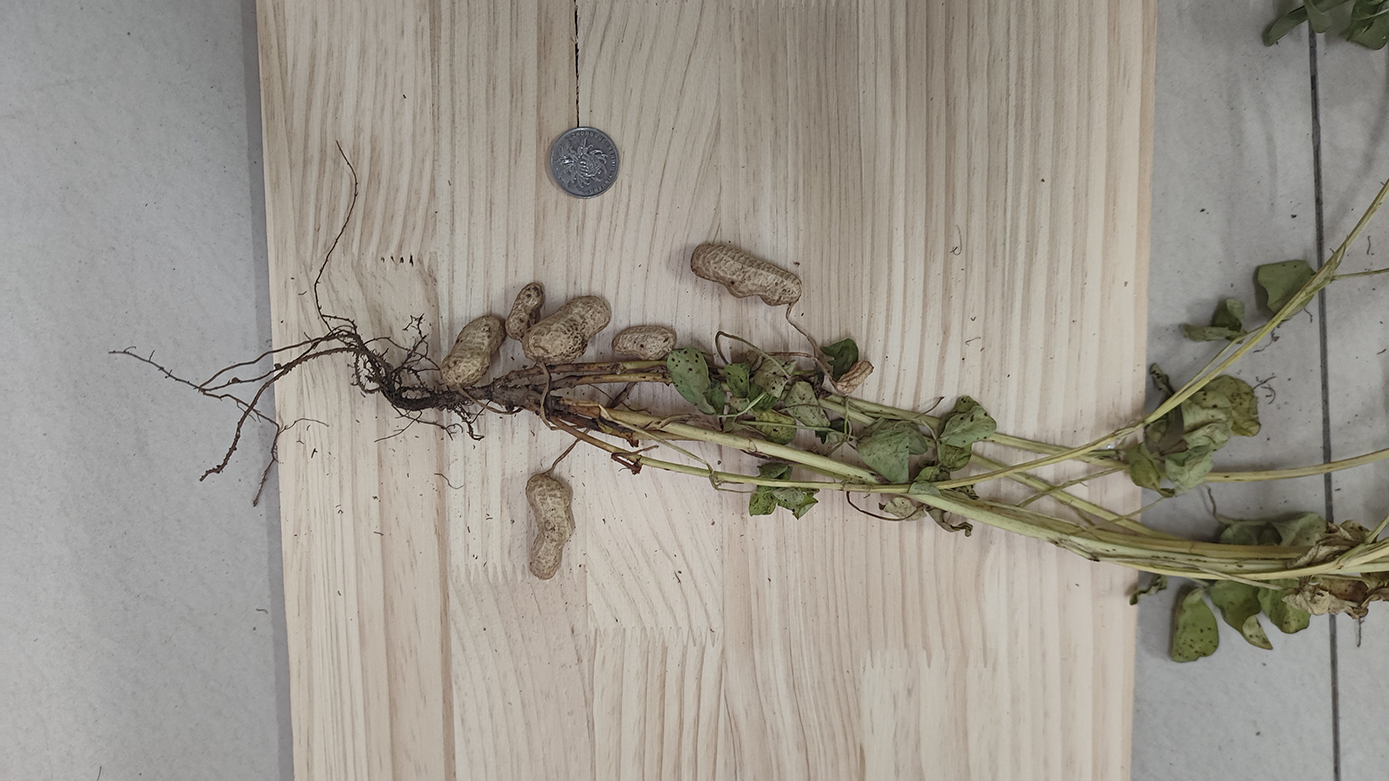h: (690, 241, 802, 306), (523, 293, 610, 366), (525, 472, 577, 581), (440, 314, 506, 385), (609, 324, 677, 361), (506, 281, 544, 340)
l: (836, 359, 874, 394)
